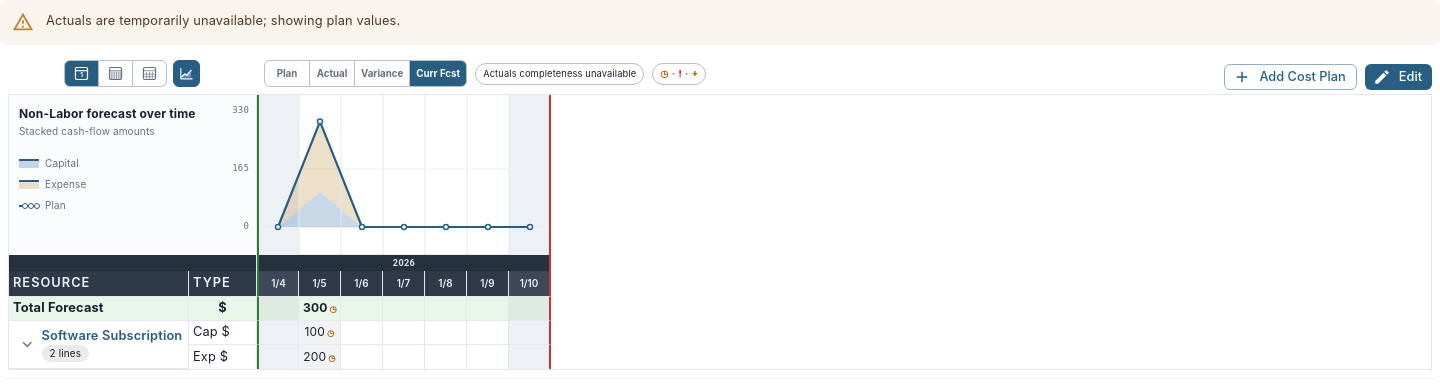
Test: NonLaborAssignmentsGrid › sums cash flows by treatment across daily and weekly views
Expected: the text "Total Forecast" shows "300", [303, 300, 327, 315]
Expected: the text "300" has style "backgroundColor: #e8f5e9", [299, 297, 341, 321]
What coordinates should you click on to do the following:
click the button named "Weekly view"
I would click on:
 (116, 74)
Its box is [98, 60, 133, 87].
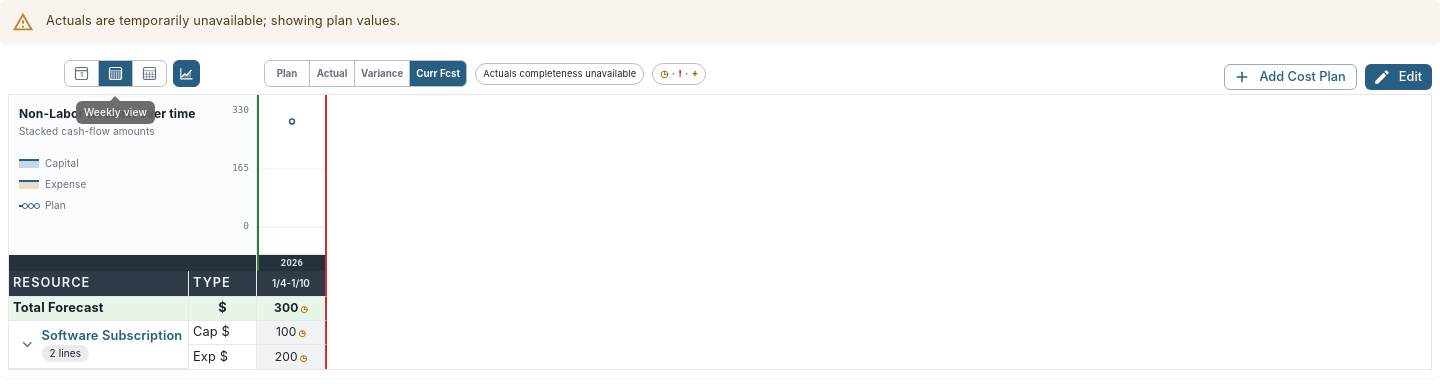
Expected: the text "Total Forecast" shows "300", [274, 300, 298, 315]
Expected: the column heading named "Week: January 4, 2026 through January 10, 2026" reads "1/4-1/10", [272, 277, 310, 289]
